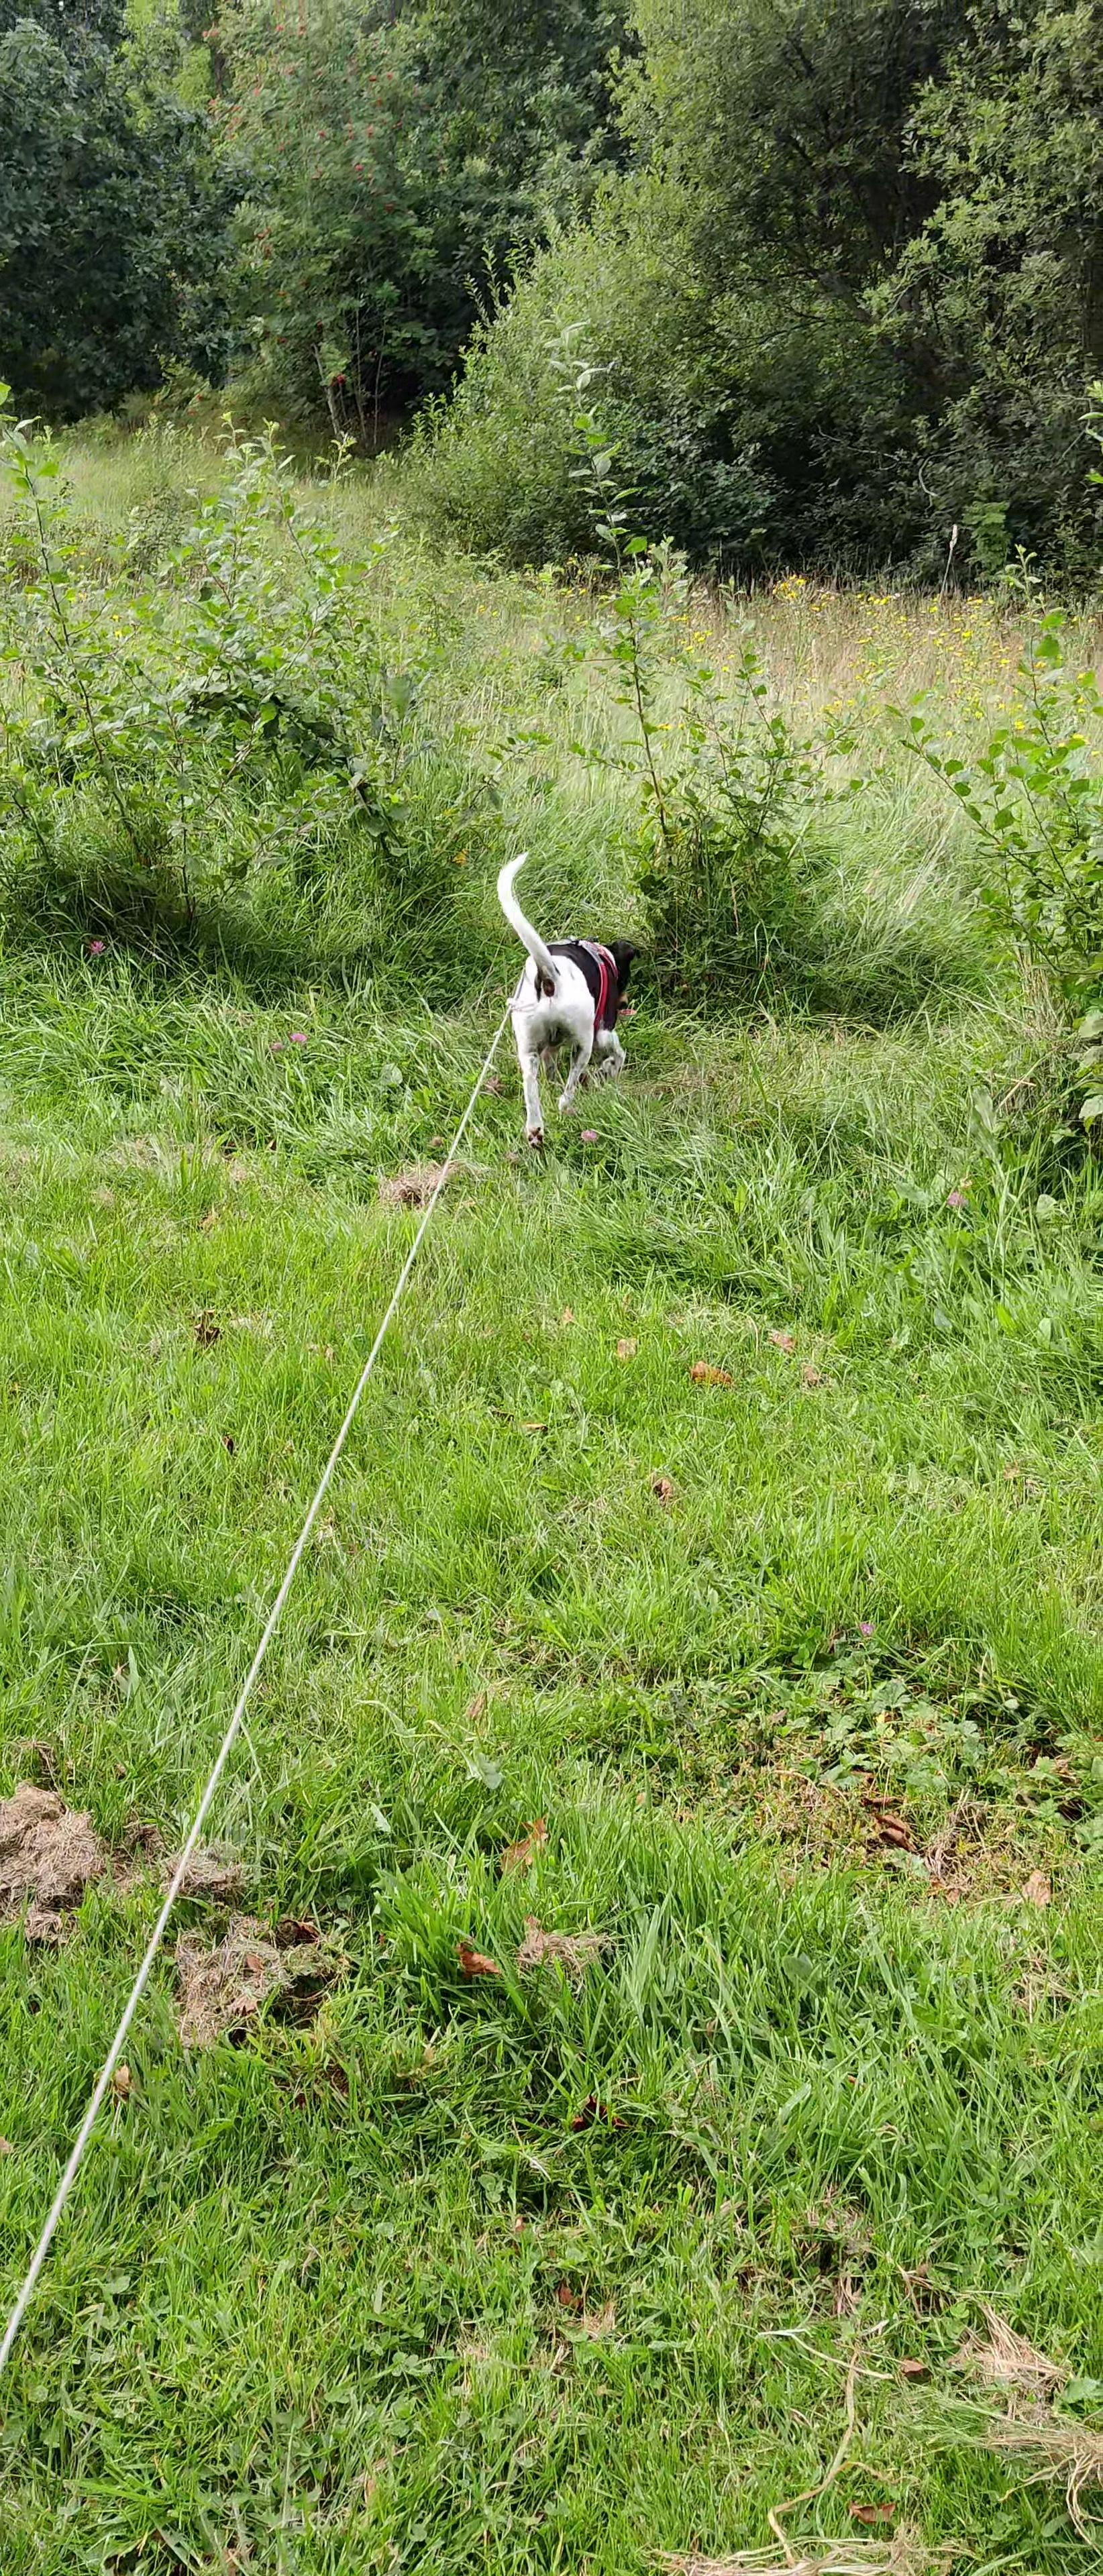Dog: (487, 844, 648, 1160)
